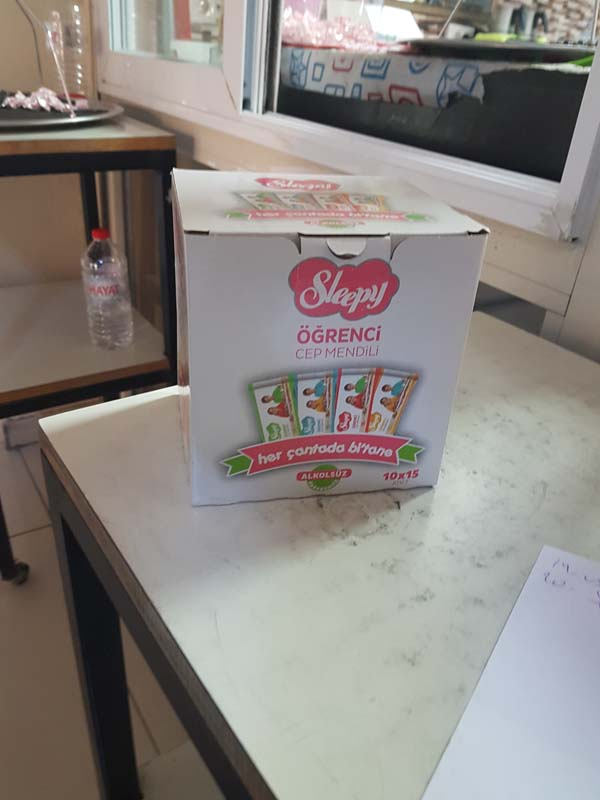sleepyogrencikoli: (158, 164, 499, 519)
